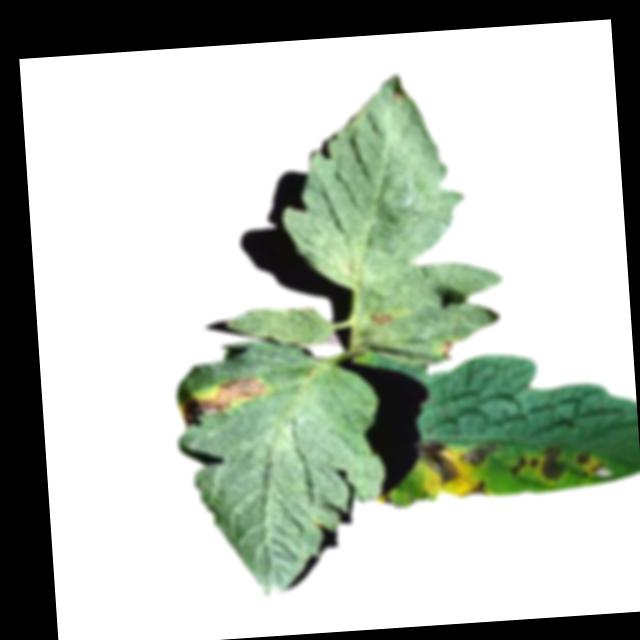Early_blight: (176, 376, 281, 430), (413, 439, 460, 485), (539, 446, 568, 488), (575, 451, 609, 485), (509, 454, 539, 481), (465, 442, 495, 468), (460, 477, 491, 501), (373, 309, 400, 328), (441, 339, 458, 362)
